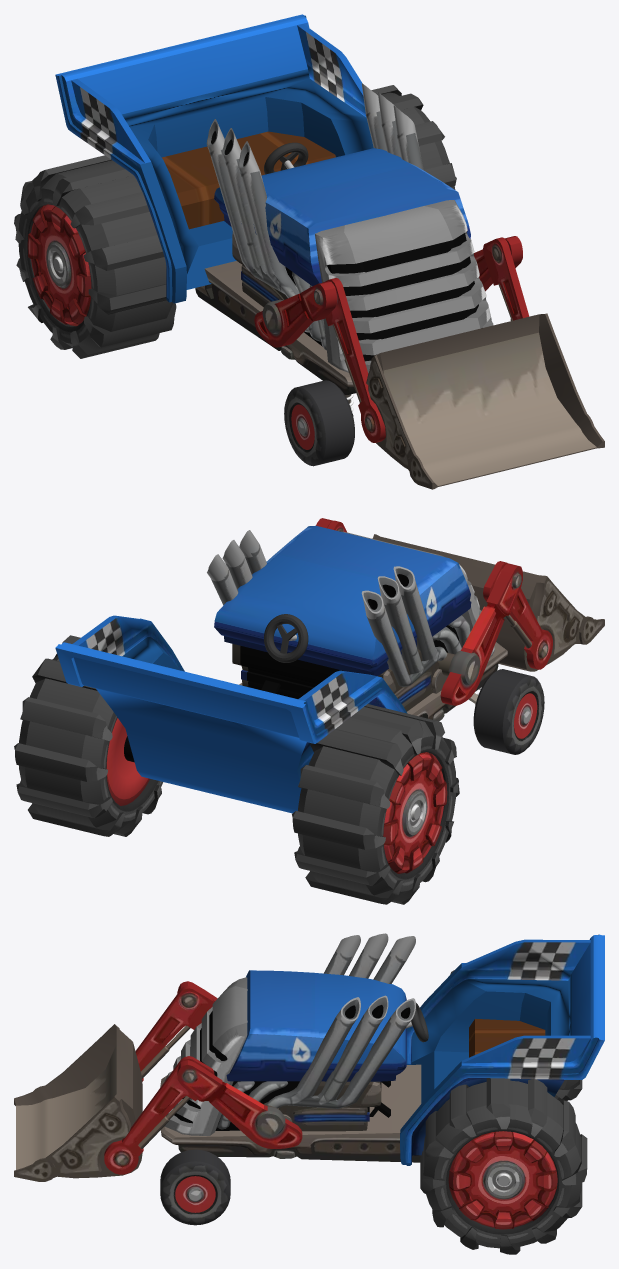
The model's file is tractor-hcr2.glb.
3 renders of one model, top to bottom at view 1: azimuth 30°, elevation 25°; view 2: azimuth 150°, elevation 25°; view 3: azimuth 270°, elevation 25°, orthographic. The views are drawn at different scales.
Visible parts, largest first — view 1: HCR2_Tractor_Body_8, HCR2_Tractor_Loader_Scoop_2, HCR2_Tractor_RR_Wheel_12, HCR2_Tractor_Engine_Cover_16, HCR2_Tractor_Exhausts_15, HCR2_Tractor_Engine_7, HCR2_Tractor_Loader_Arms_F_3, HCR2_Tractor_Seat_14, HCR2_Tractor_FR_Wheel_10, HCR2_Tractor_Frame_6, HCR2_Tractor_Loader_Arms_R_4, HCR2_Tractor_RL_Wheel_11 (+1 smaller); view 2: HCR2_Tractor_Body_8, HCR2_Tractor_RR_Wheel_12, HCR2_Tractor_RL_Wheel_11, HCR2_Tractor_Exhausts_15, HCR2_Tractor_Loader_Scoop_2, HCR2_Tractor_FR_Wheel_10, HCR2_Tractor_Engine_7, HCR2_Tractor_Loader_Arms_R_4, HCR2_Tractor_Loader_Arms_F_3, HCR2_Tractor_Steer_1, HCR2_Tractor_Frame_6, HCR2_Tractor_Engine_Cover_16; view 3: HCR2_Tractor_Body_8, HCR2_Tractor_RL_Wheel_11, HCR2_Tractor_Loader_Scoop_2, HCR2_Tractor_Exhausts_15, HCR2_Tractor_Frame_6, HCR2_Tractor_Loader_Arms_F_3, HCR2_Tractor_Engine_Cover_16, HCR2_Tractor_Loader_Arms_R_4, HCR2_Tractor_FL_Wheel_9, HCR2_Tractor_Engine_7, HCR2_Tractor_Seat_14, HCR2_Tractor_RR_Wheel_12.
Part boxes in pixels (x1,y1,x2,y2): HCR2_Tractor_Body_8: (55, 14, 470, 303); HCR2_Tractor_Loader_Scoop_2: (366, 313, 604, 489); HCR2_Tractor_RR_Wheel_12: (14, 155, 176, 358); HCR2_Tractor_Engine_Cover_16: (315, 200, 493, 372); HCR2_Tractor_Exhausts_15: (206, 83, 423, 350); HCR2_Tractor_Engine_7: (232, 231, 478, 361); HCR2_Tractor_Loader_Arms_F_3: (323, 237, 529, 442); HCR2_Tractor_Seat_14: (162, 131, 335, 229); HCR2_Tractor_FR_Wheel_10: (284, 380, 354, 466); HCR2_Tractor_Frame_6: (195, 261, 355, 394); HCR2_Tractor_Loader_Arms_R_4: (254, 236, 522, 347); HCR2_Tractor_RL_Wheel_11: (371, 85, 456, 189); HCR2_Tractor_Body_8: (55, 525, 471, 813); HCR2_Tractor_RR_Wheel_12: (292, 704, 459, 904); HCR2_Tractor_RL_Wheel_11: (14, 635, 163, 836); HCR2_Tractor_Exhausts_15: (207, 530, 470, 686); HCR2_Tractor_Loader_Scoop_2: (372, 534, 604, 671); HCR2_Tractor_FR_Wheel_10: (473, 669, 544, 754); HCR2_Tractor_Engine_7: (232, 625, 459, 711); HCR2_Tractor_Loader_Arms_R_4: (316, 518, 522, 705); HCR2_Tractor_Loader_Arms_F_3: (327, 520, 552, 669); HCR2_Tractor_Steer_1: (264, 614, 308, 662); HCR2_Tractor_Frame_6: (239, 642, 507, 721); HCR2_Tractor_Engine_Cover_16: (341, 531, 494, 658); HCR2_Tractor_Body_8: (226, 934, 604, 1165); HCR2_Tractor_RL_Wheel_11: (420, 1078, 587, 1254); HCR2_Tractor_Loader_Scoop_2: (14, 1024, 142, 1181); HCR2_Tractor_Exhausts_15: (217, 933, 415, 1129); HCR2_Tractor_Frame_6: (160, 1064, 421, 1162); HCR2_Tractor_Loader_Arms_F_3: (104, 985, 214, 1174); HCR2_Tractor_Engine_Cover_16: (164, 977, 247, 1135); HCR2_Tractor_Loader_Arms_R_4: (177, 981, 302, 1148); HCR2_Tractor_FL_Wheel_9: (160, 1149, 230, 1225); HCR2_Tractor_Engine_7: (174, 1011, 381, 1131); HCR2_Tractor_Seat_14: (469, 1018, 545, 1057); HCR2_Tractor_RR_Wheel_12: (450, 970, 582, 1103).
Bounding box in the file's own units: 2.97 × 1.94 × 4.8.
Materials: 2 (2 with a texture image).
